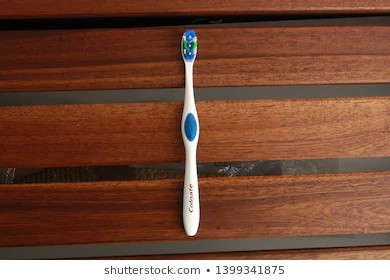toothbrush: (175, 29, 208, 240)
